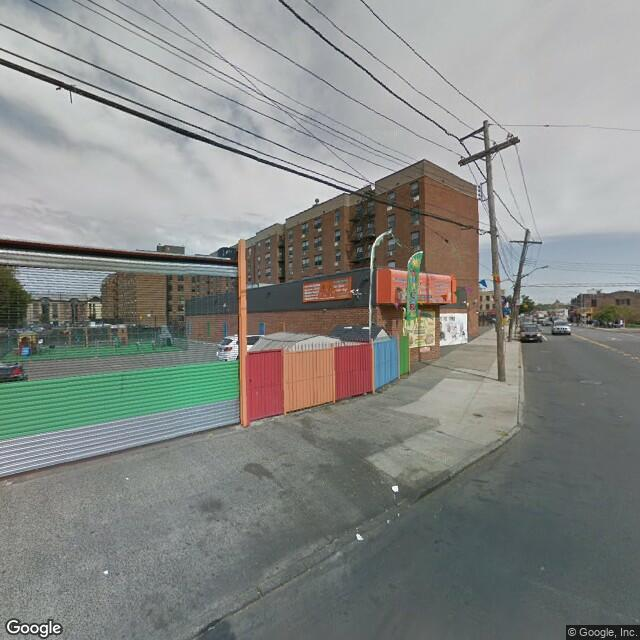litter: (356, 531, 369, 543), (390, 484, 409, 491)
